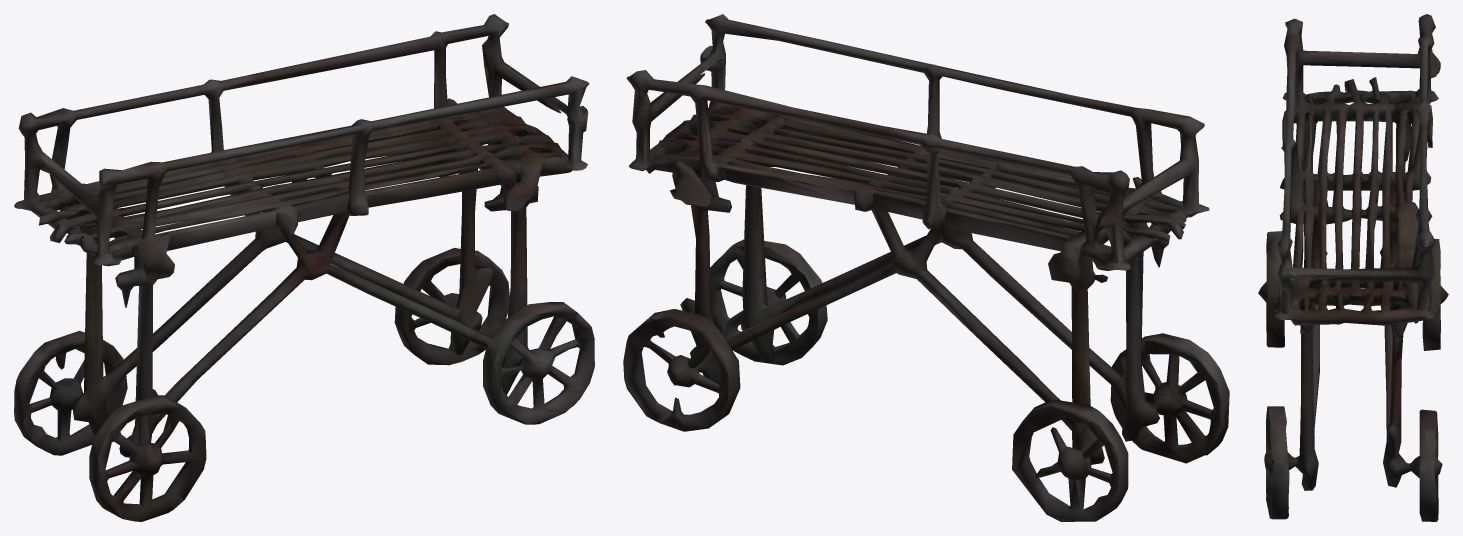
The model's file is rustic-iron-gurney-v001.glb.
3 views of the same model, side by side, from view 1: azimuth 30°, elevation 25°; view 2: azimuth 150°, elevation 25°; view 3: azimuth 270°, elevation 25° (orthographic). The views are drawn at different scales.
Parts seen in each view (by area): view 1: rustic-iron-gurney; view 2: rustic-iron-gurney; view 3: rustic-iron-gurney.
Boxes of the visible parts, bbox=[...] form: rustic-iron-gurney: bbox=[14, 14, 594, 521]; rustic-iron-gurney: bbox=[623, 14, 1229, 521]; rustic-iron-gurney: bbox=[1258, 14, 1448, 521].
Bounding box in the file's own units: 1.34 × 0.8928 × 0.4937.
Materials: 1 (1 with a texture image).
